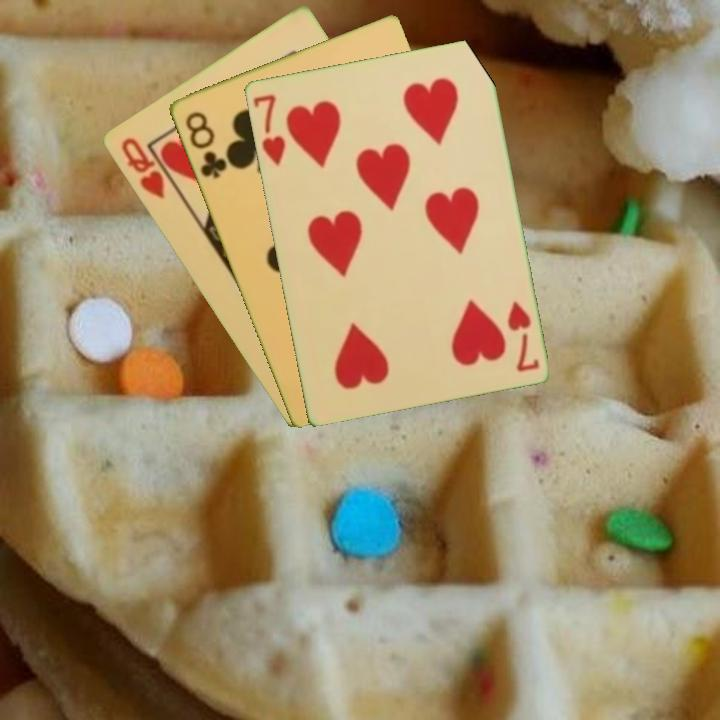7h: (249, 90, 288, 168), (503, 297, 542, 374)
8c: (181, 107, 229, 181)
Qh: (117, 133, 167, 202)
